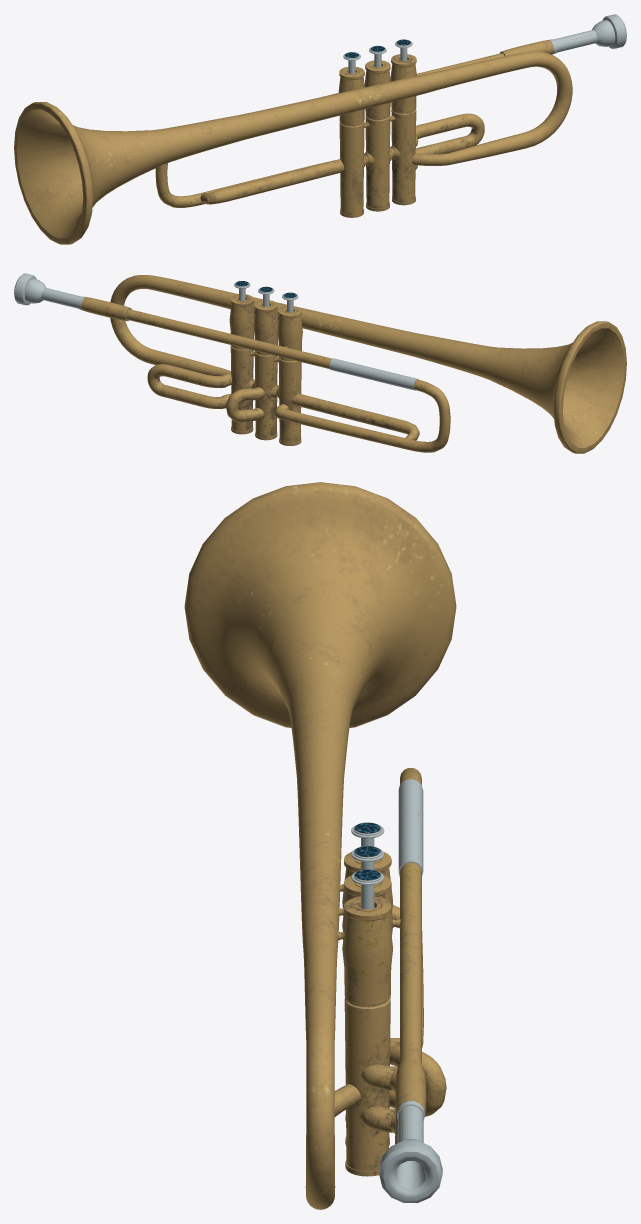
The model's file is trumpet.fbx.
3 views of the same model, one above another, from view 1: azimuth 30°, elevation 25°; view 2: azimuth 150°, elevation 25°; view 3: azimuth 270°, elevation 25° (orthographic). The views are drawn at different scales.
Parts seen in each view (by area): view 1: Brass Trumpet; view 2: Brass Trumpet; view 3: Brass Trumpet.
Part boxes in pixels (left/top/right/bottom): Brass Trumpet: left=14, top=14, right=626, bottom=244; Brass Trumpet: left=14, top=273, right=626, bottom=453; Brass Trumpet: left=184, top=482, right=456, bottom=1209.
Size of the model in its own units: 93.45 by 28.77 by 19.98.
Materials: 2 (2 with a texture image).
